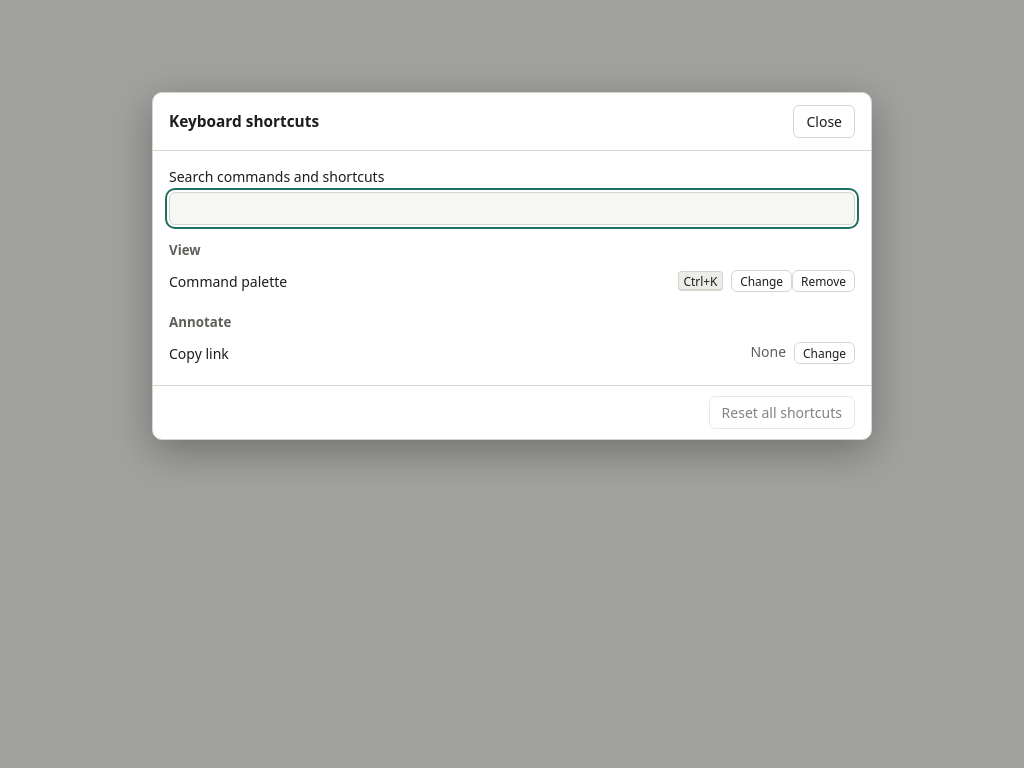
Test: ShortcutsDialog › removes and resets, keeping focus in the row
This screenshot has width=1024, height=768.
Click the button "Remove" at (824, 281), box [792, 270, 855, 292]
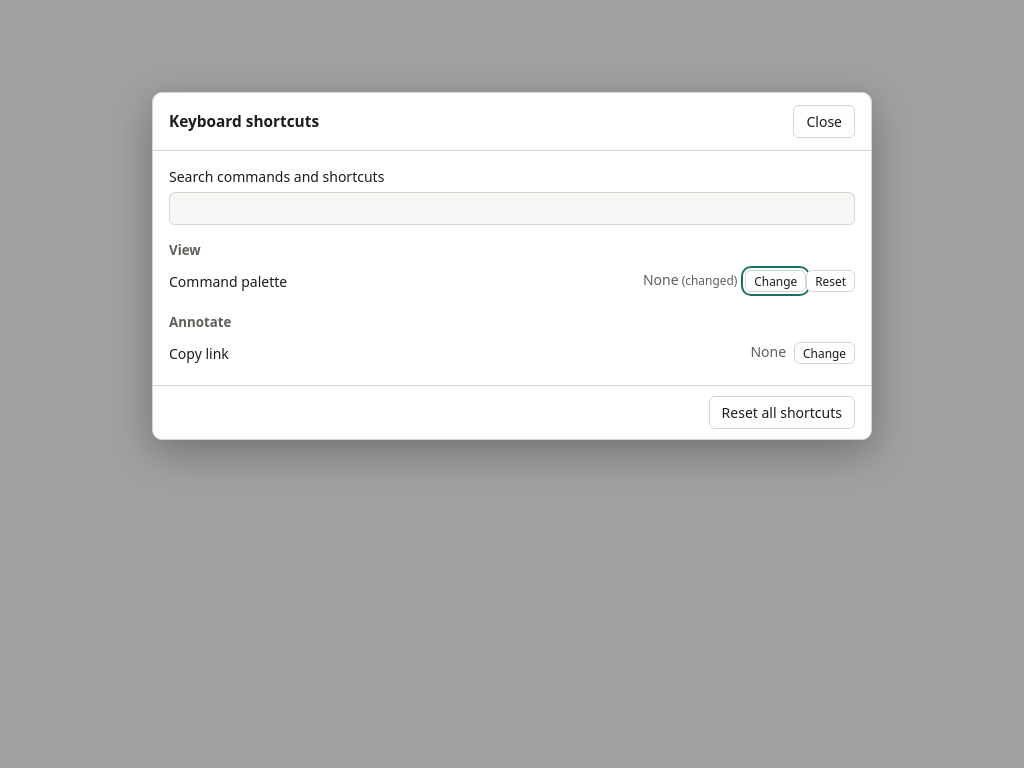
Click the button "Reset" at (831, 281), box [806, 270, 855, 292]
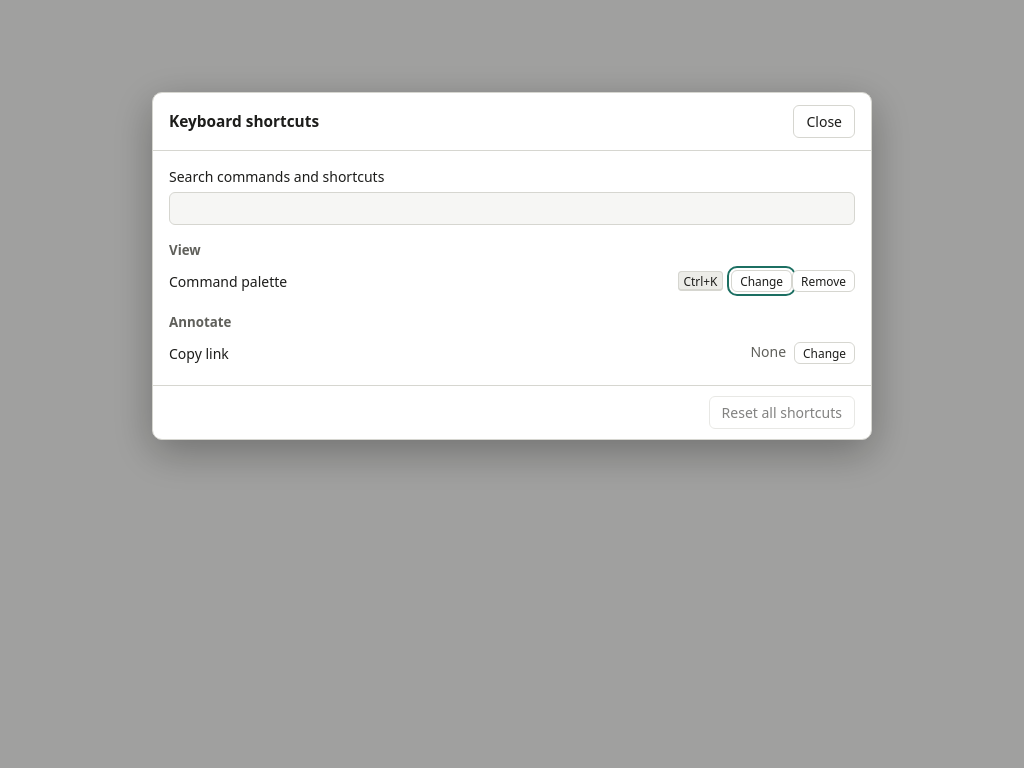
Result: the text "Ctrl+K" is shown at [678, 271, 723, 291]
